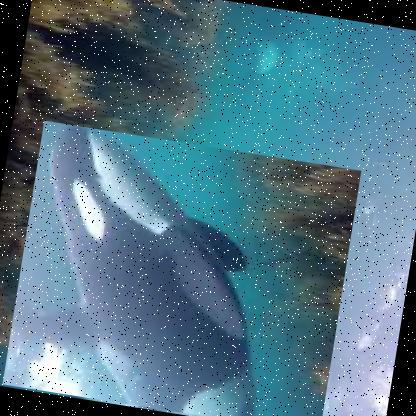killer_whale: (0, 120, 360, 415)
